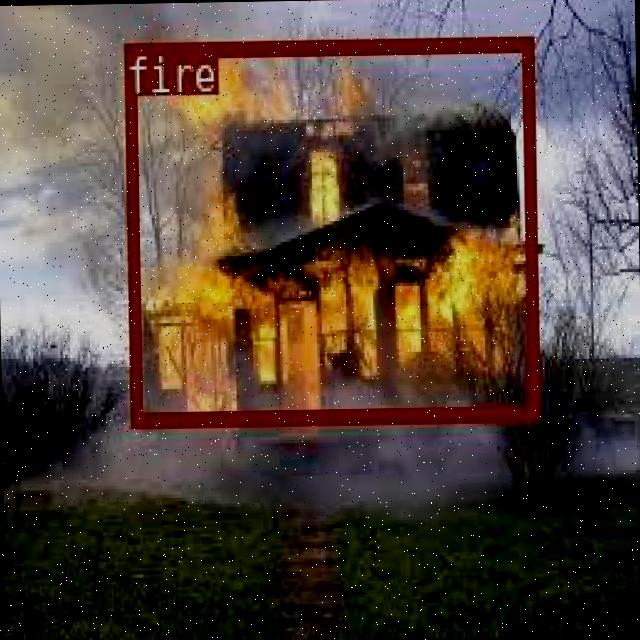fire: (122, 36, 537, 425)
